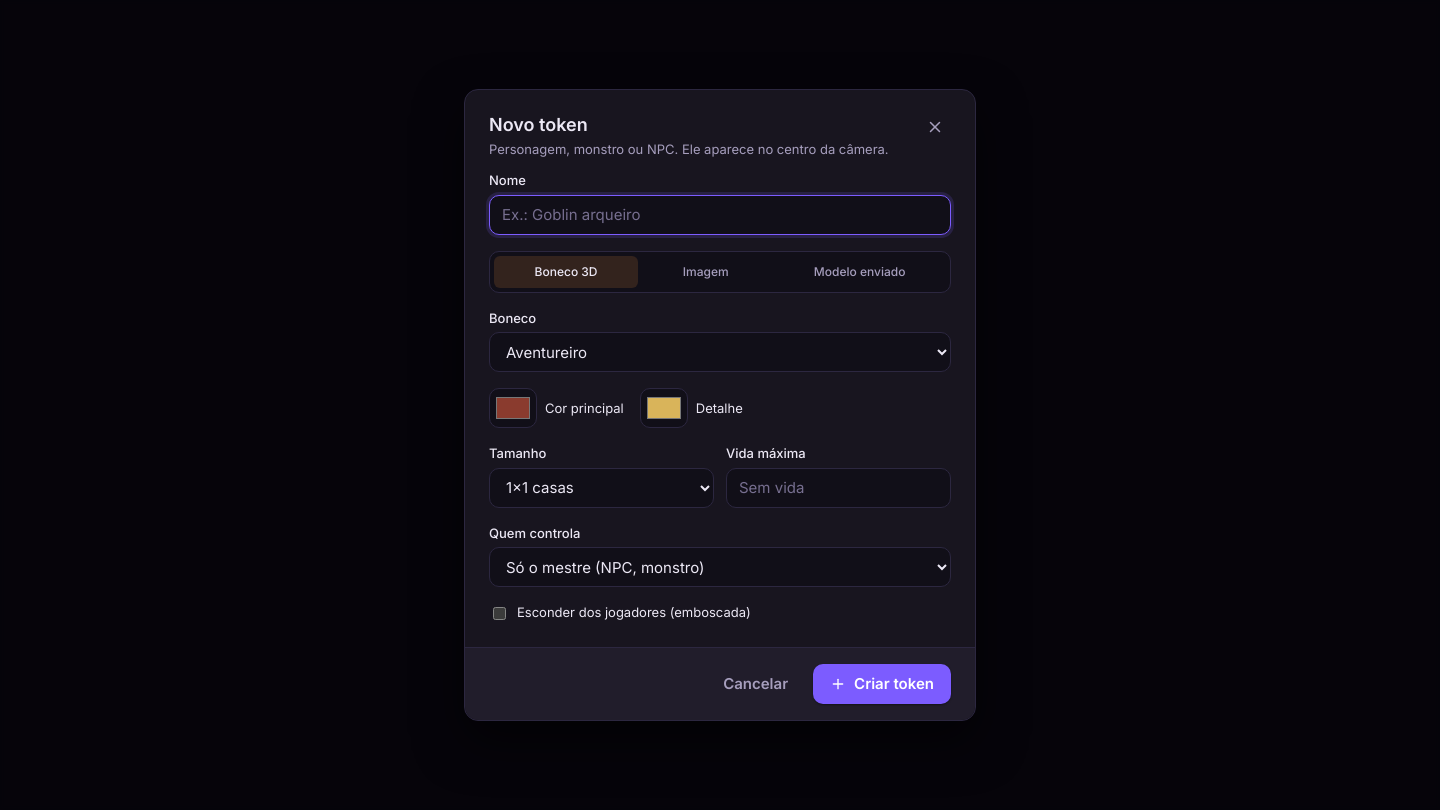
Test case: TokenFormDialog com modelo enviado › shouldAskForAModelBeforeCreating
Type "Fera" into the field labelled "Nome" at (720, 215), box [489,195,951,235]
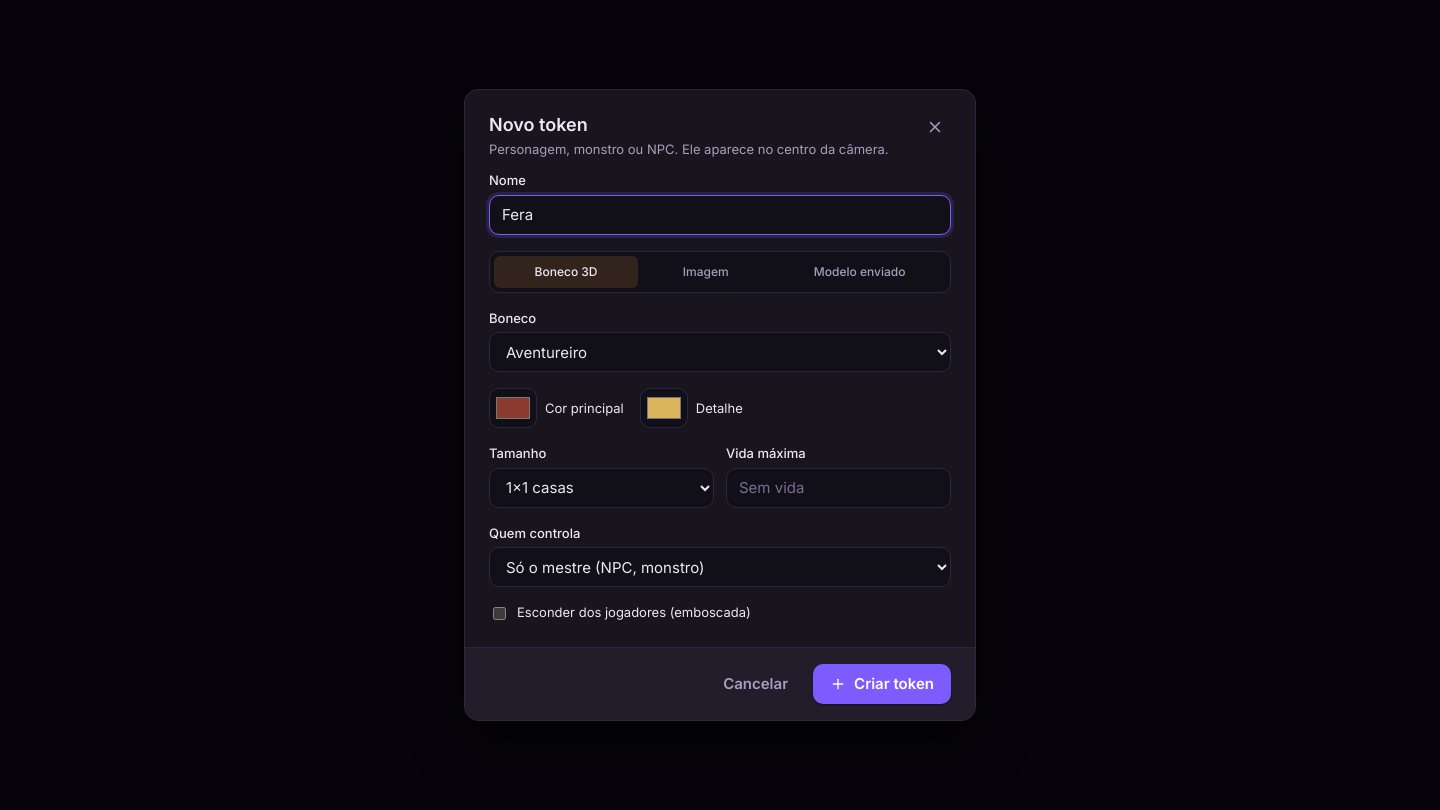
Click the radio button labelled "Modelo enviado" at (860, 272), box [773,256,946,288]
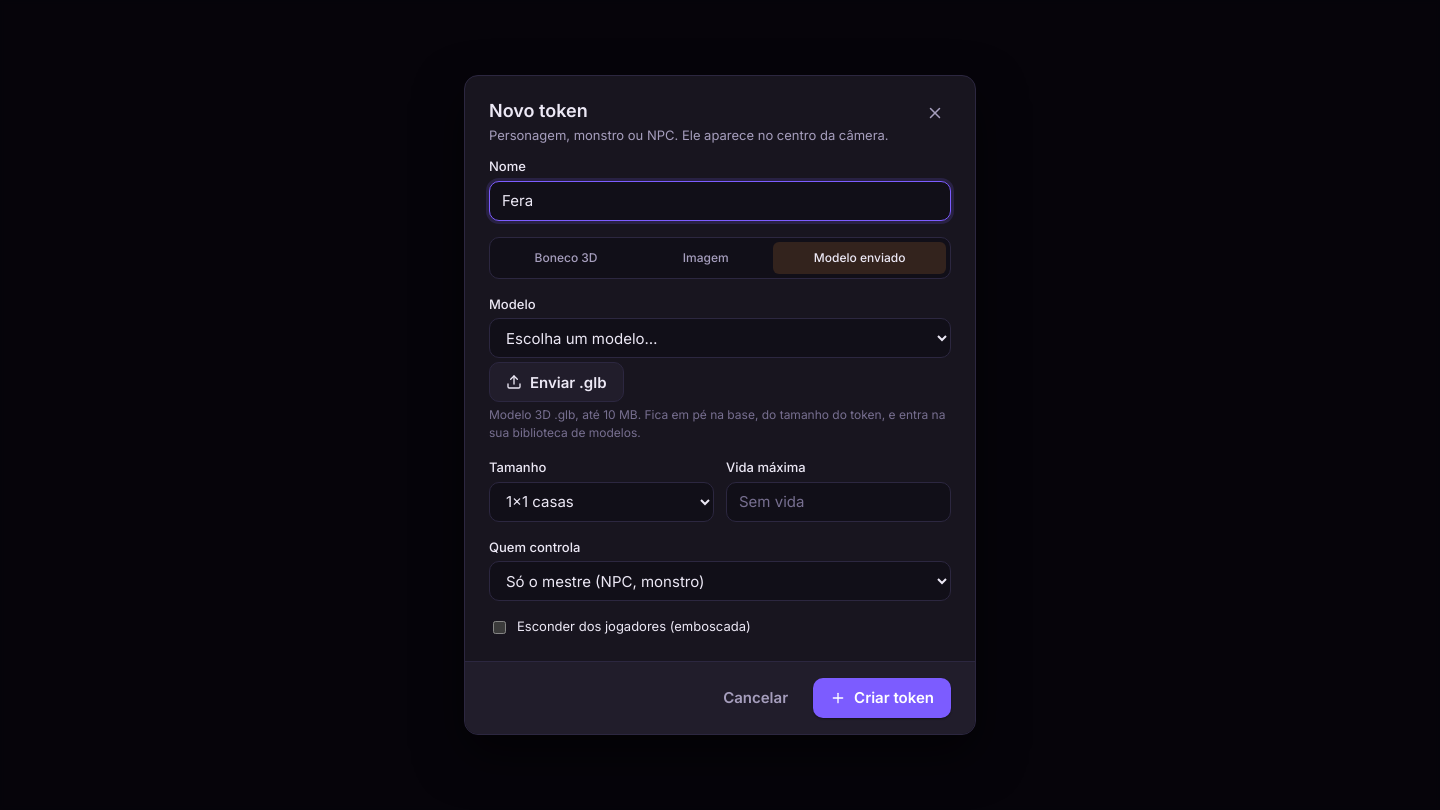
Result: the dropdown labelled "Modelo" is shown at [489,318,951,358]
Click the button "Criar token" at (882, 698), box [813,678,951,718]
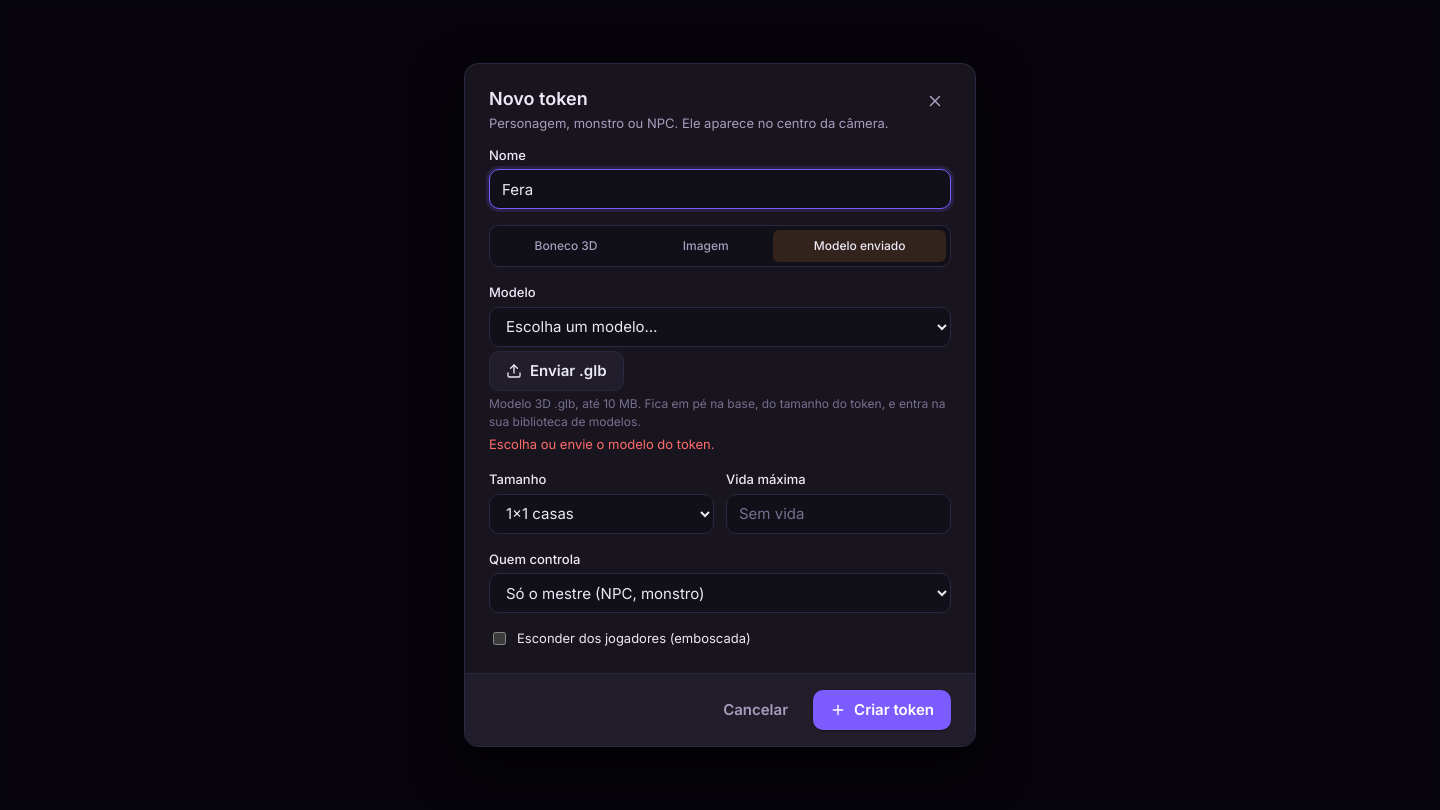
Result: the text "Escolha ou envie o modelo do token." is shown at [489,436,714,452]
